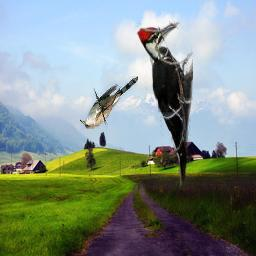Cuckoo: (80, 77, 138, 130)
Woodpecker: (137, 22, 194, 191)
